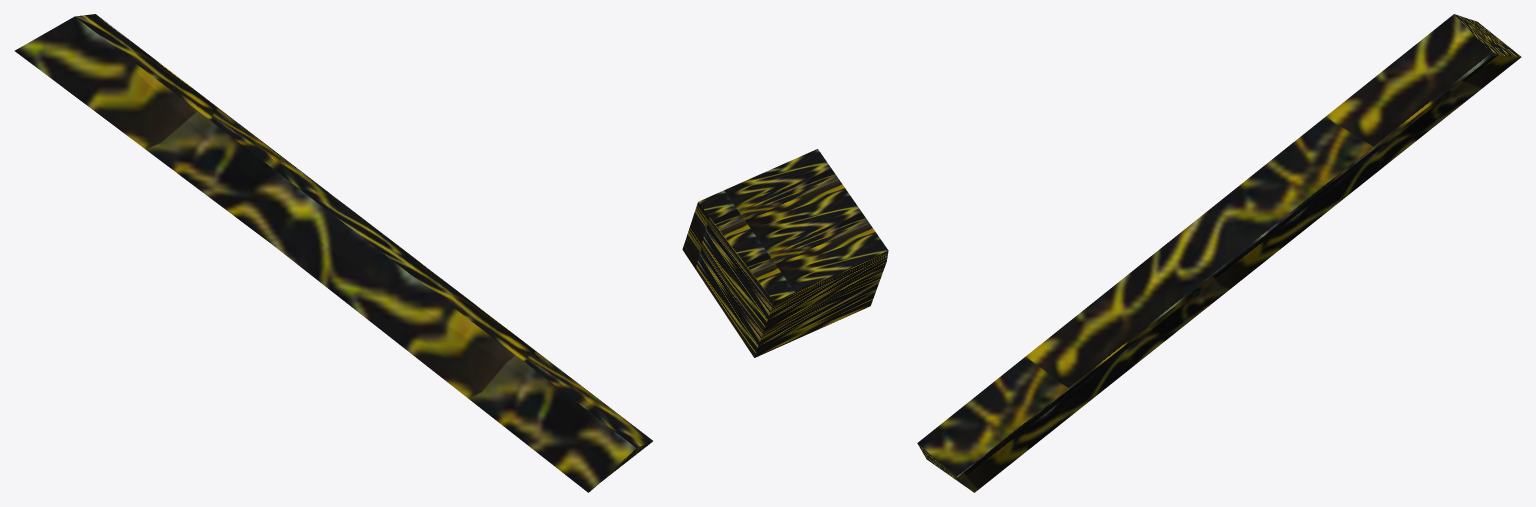
File: ColdZone_Log_S_4.gltf
3 views of the same model, side by side, from view 1: azimuth 30°, elevation 25°; view 2: azimuth 150°, elevation 25°; view 3: azimuth 270°, elevation 25° (orthographic). The views are drawn at different scales.
Parts seen in each view (by area): view 1: ColdZone_Log_S_4; view 2: ColdZone_Log_S_4; view 3: ColdZone_Log_S_4.
Boxes of the visible parts, left/top/right/bottom form: ColdZone_Log_S_4: left=14, top=14, right=652, bottom=492; ColdZone_Log_S_4: left=682, top=149, right=888, bottom=357; ColdZone_Log_S_4: left=917, top=14, right=1521, bottom=492.
Size of the model in its own units: 6.18 by 5.63 by 8.91.
1 material, 1 textured.
